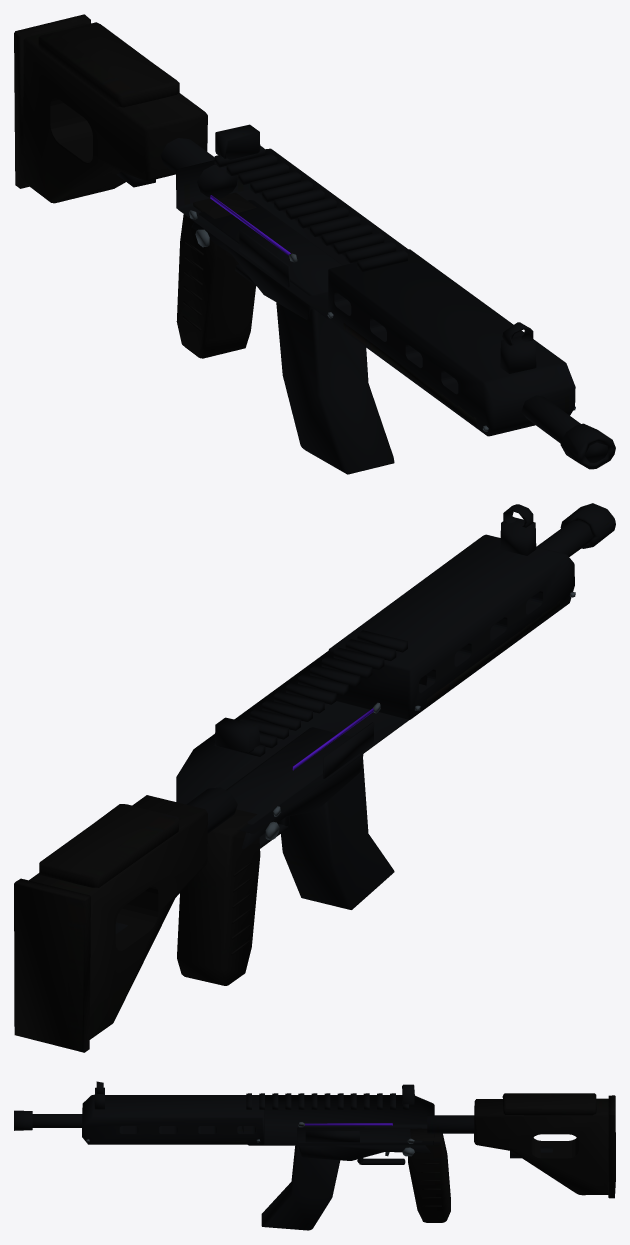
Rendered from weapon_rifle.glb.
3 renders of one model, top to bottom at view 1: azimuth 30°, elevation 25°; view 2: azimuth 150°, elevation 25°; view 3: azimuth 270°, elevation 25°, orthographic. The views are drawn at different scales.
Parts seen in each view (by area): view 1: weapon_rifle; view 2: weapon_rifle; view 3: weapon_rifle.
Part boxes in pixels (x1,y1,x2,y2): weapon_rifle: (14,14,615,474); weapon_rifle: (14,503,615,1052); weapon_rifle: (14,1081,615,1230).
Bounding box in the file's own units: 0.1098 × 0.299 × 1.15.
1 material, 1 textured.
